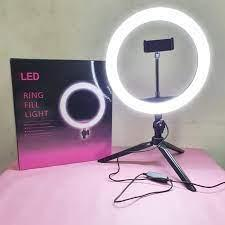Lamp: (99, 4, 215, 198)
